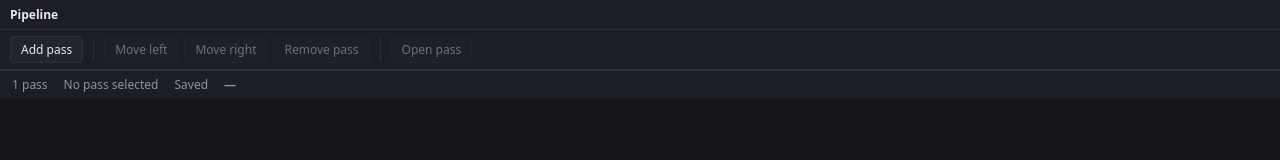
Pipeline chrome › Remove pass deletes the selected pass (and not the last one)
Click the button "Add pass" at {"x": 47, "y": 50}, box top-left (10, 36), bottom-right (83, 63)
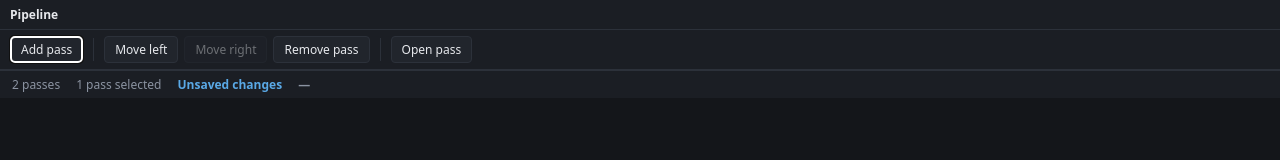
Click the button "Remove pass" at {"x": 322, "y": 50}, box top-left (274, 36), bottom-right (370, 63)
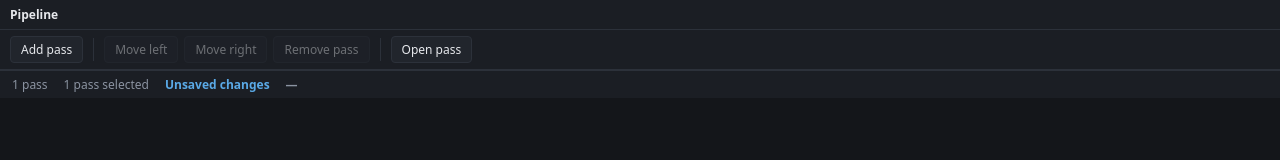
Now the button "Remove pass" is disabled, box top-left (274, 36), bottom-right (370, 63)
